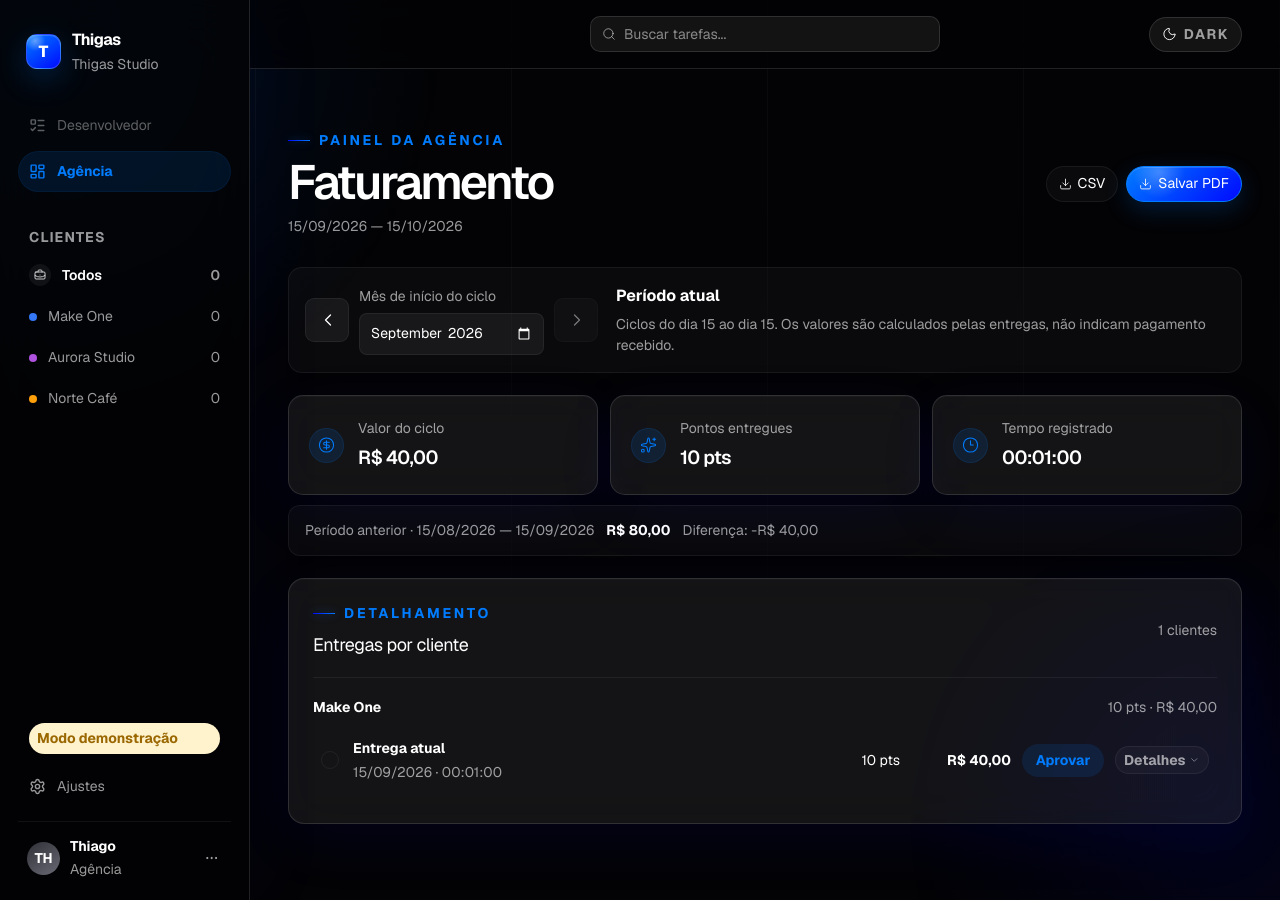
Test: histórico de faturamento da agência › abre no atual, compara com anterior e permite navegar sem misturar entregas
The image size is (1280, 900).
Expected: the field named "Mês do faturamento" holds "2026-09", [359,312,544,354]
Expected: the text "Entrega atual" is shown, [353,738,445,756]
Click the button named "Período anterior" at (327, 320), box [305,298,349,342]
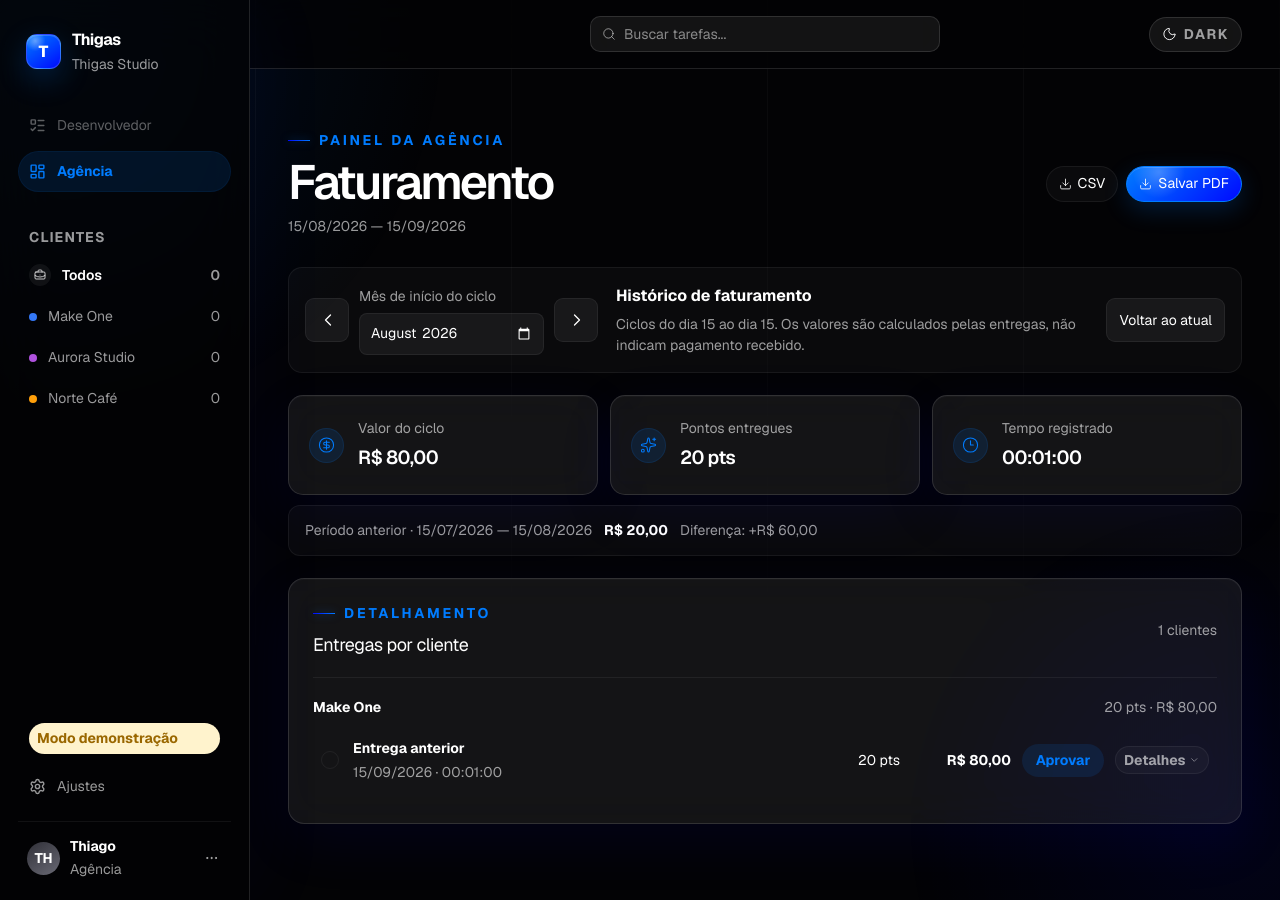
Expected: the field named "Mês do faturamento" holds "2026-08"
Expected: the text "Entrega anterior" is shown, [353,738,465,756]
Expected: the text "Entrega atual" is gone
Replace the text in the field named "Mês do faturamento" with "2026-07" at (452, 334), box [359,312,544,354]
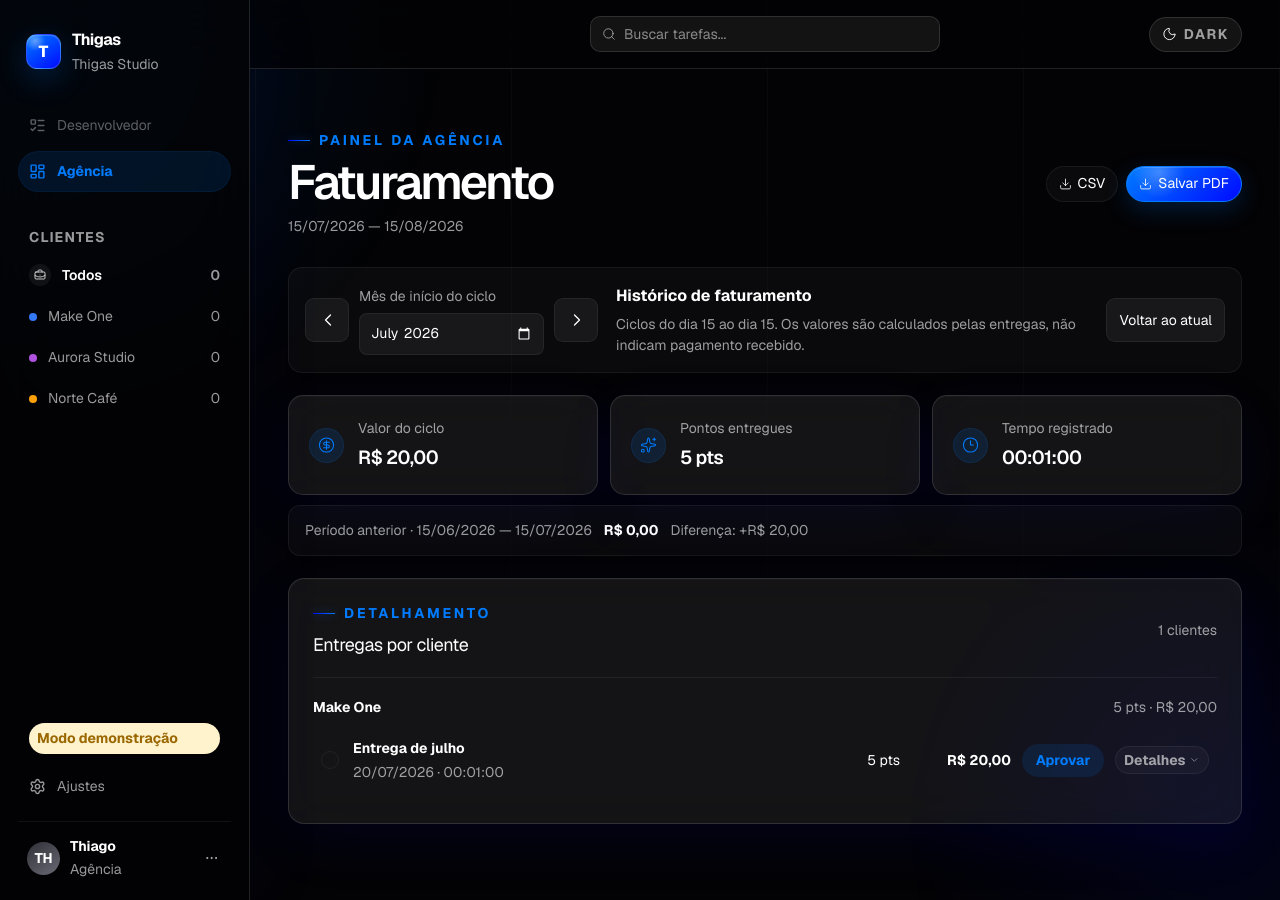
Expected: the text "Entrega de julho" is shown, [353,738,465,756]
Click the button "Voltar ao atual" at (1166, 320), box [1106,298,1225,342]
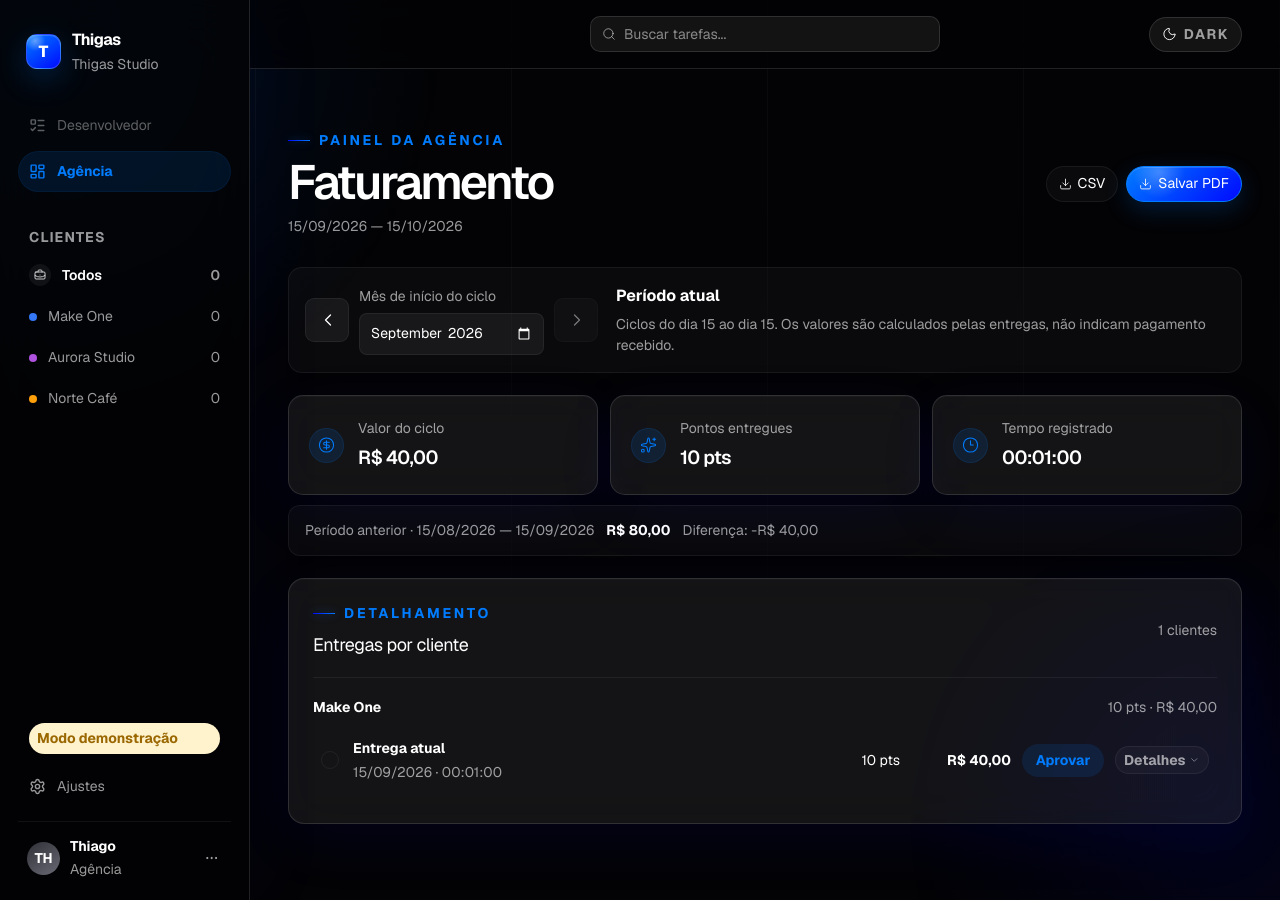
Expected: the text "Entrega atual" is shown, [353,738,445,756]
